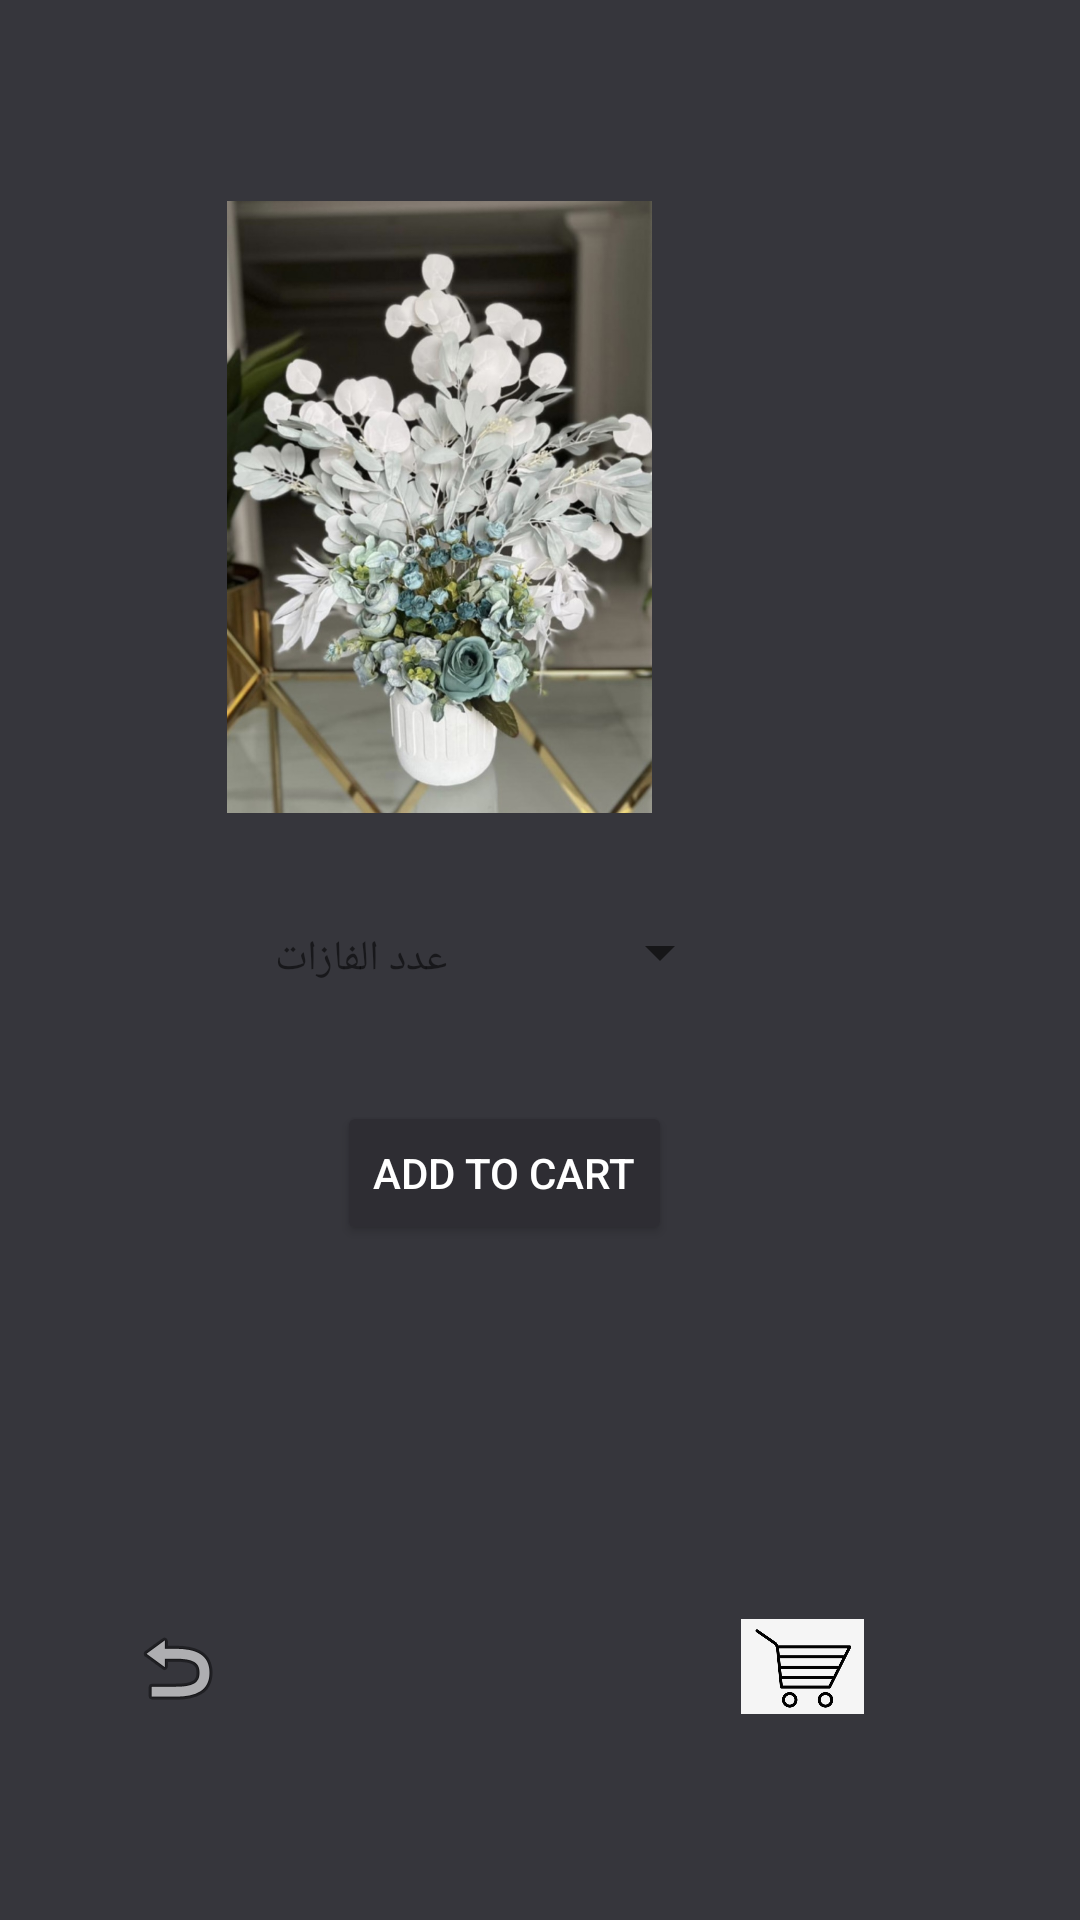

Where to tap for icons on this 1080w x 1920h app screen, as (x=x, y=y):
revert: (x=178, y=1668)
